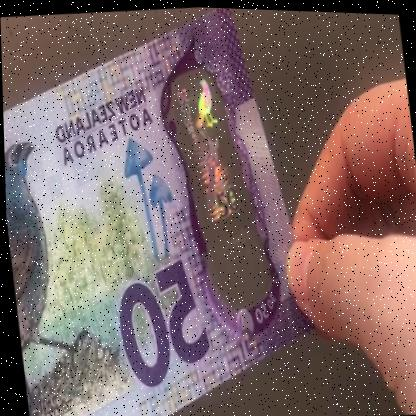50B: (173, 67, 263, 312)
